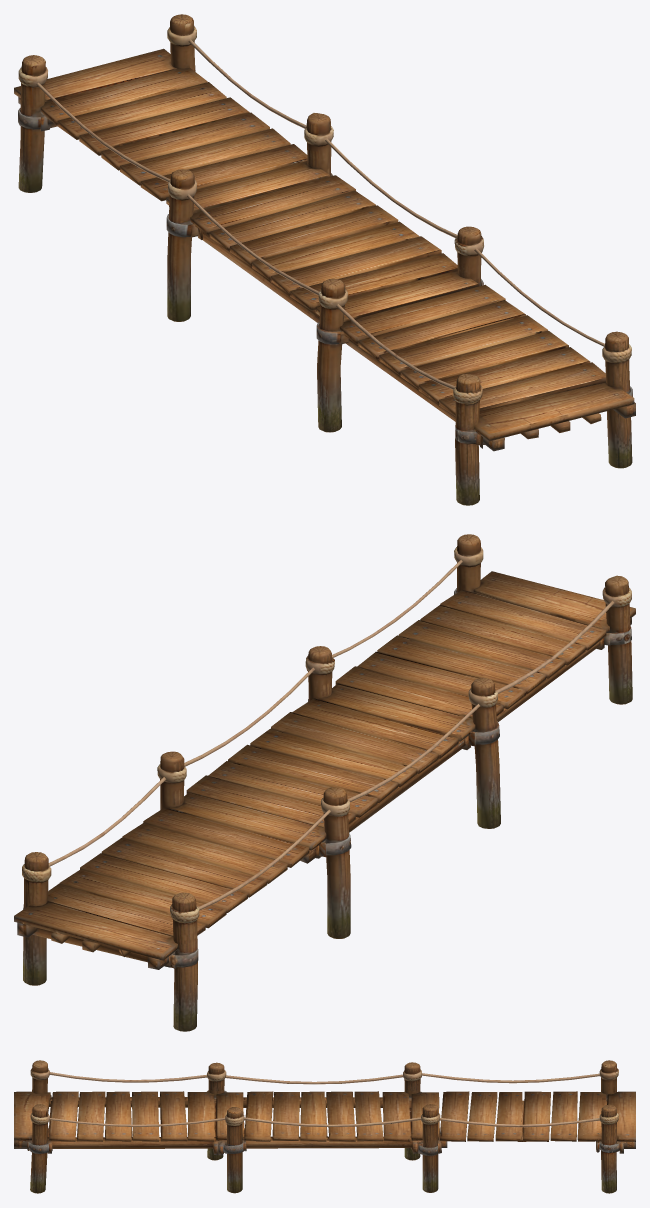
File: Furn_Pier.fbx
The picture shows the model from 3 angles, top to bottom: view 1: azimuth 30°, elevation 25°; view 2: azimuth 150°, elevation 25°; view 3: azimuth 270°, elevation 25°; orthographic projection. The views are drawn at different scales.
Visible parts, largest first — view 1: Furn_Pier; view 2: Furn_Pier; view 3: Furn_Pier.
Boxes of the visible parts, x1,y1,x2,y2 form: Furn_Pier: (14,14,635,505); Furn_Pier: (14,534,635,1031); Furn_Pier: (14,1060,635,1193).
Bounding box in the file's own units: 2.16 × 1.79 × 10.
1 material, 1 textured.
